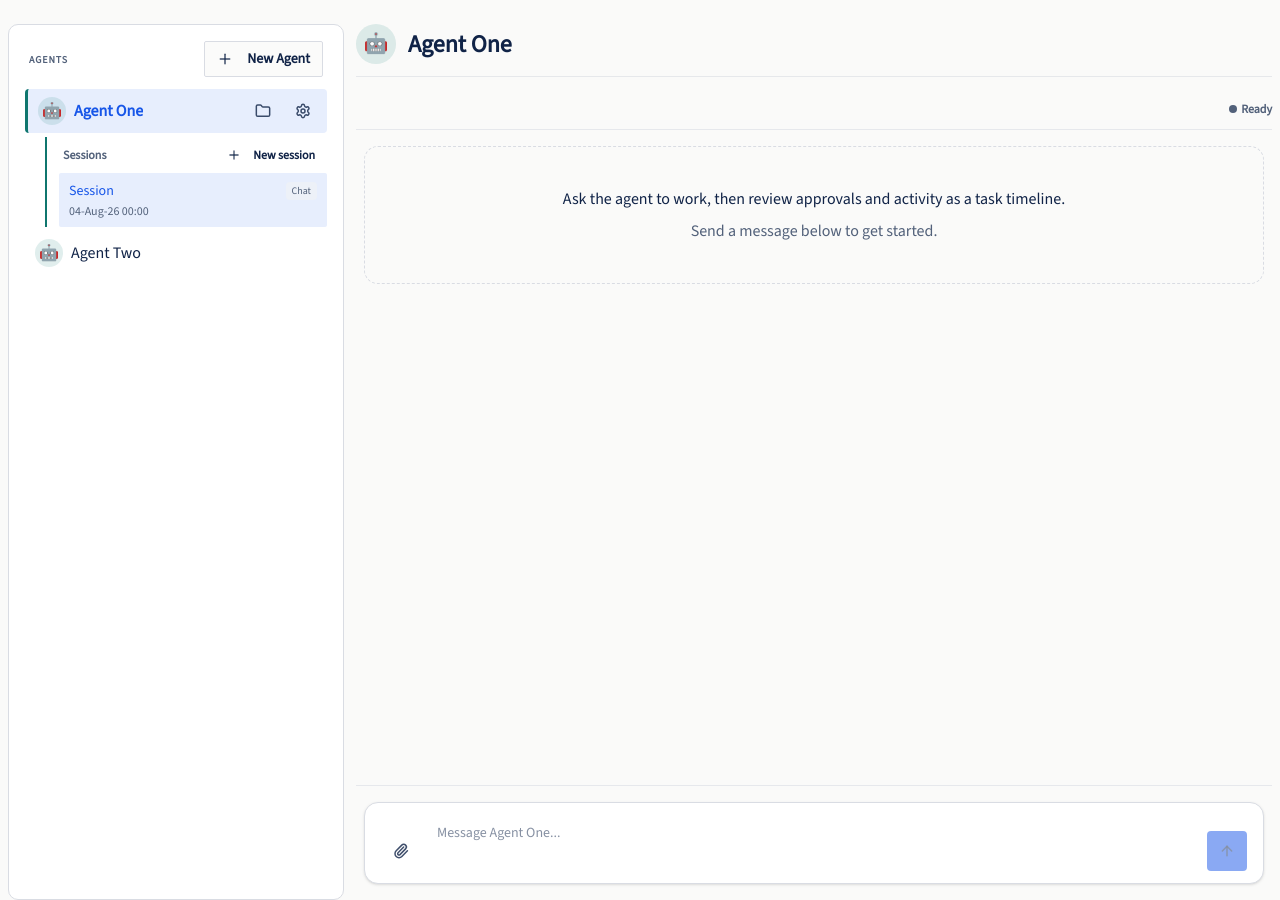
Test case: AgentPageV2 deep-link and navigation › preserves the draft on rejected admission failure
The width and height of the screenshot is (1280, 900).
In the text box: (814, 843) 429,815 -> 1199,871, type "keep this prompt"
Then press Enter
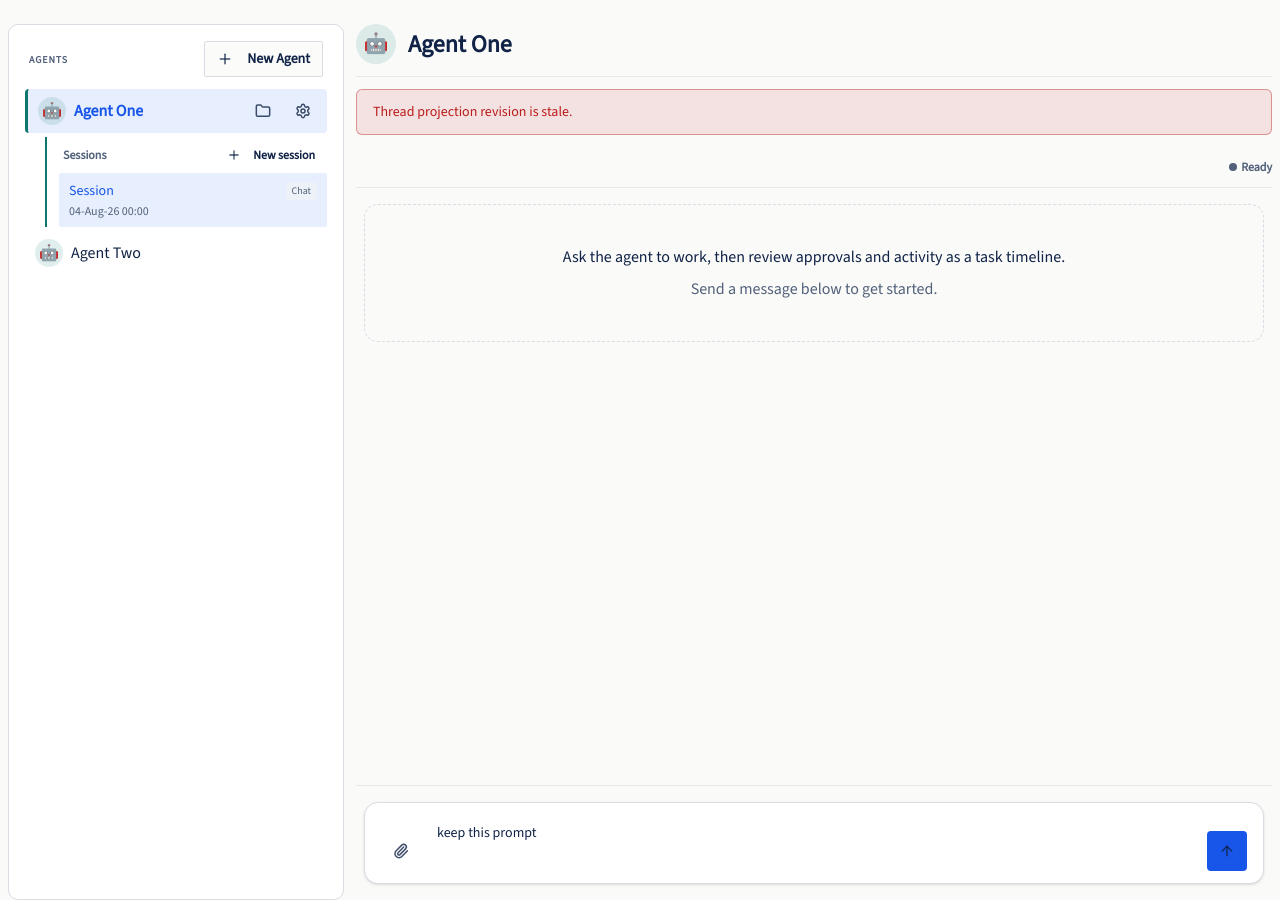
Now the message reads "Thread projection revision is stale.", box 373,102 -> 572,121
